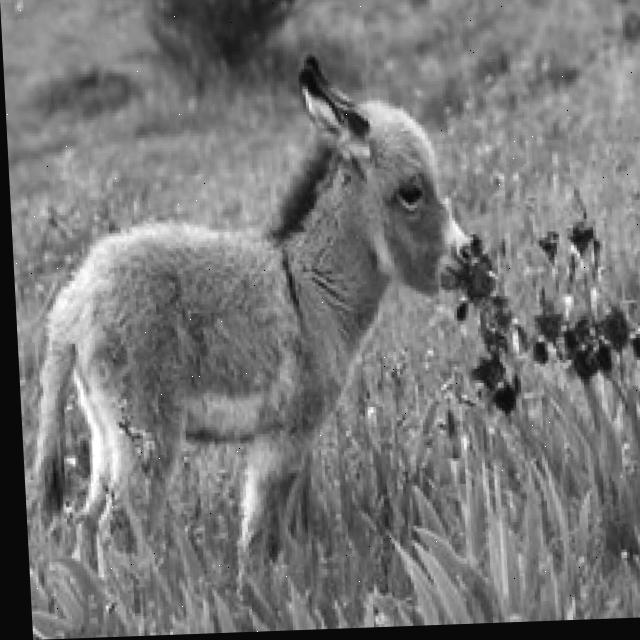Donkey: (9, 43, 496, 586)
